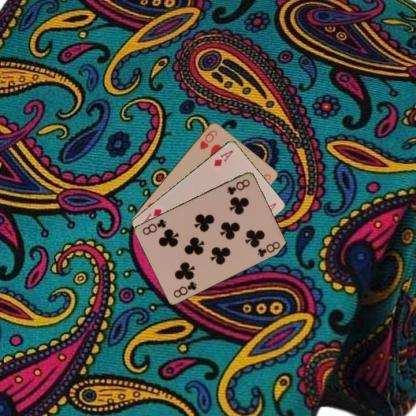6h: (197, 127, 218, 151)
8c: (224, 176, 252, 196), (171, 278, 198, 298)
Ad: (211, 146, 234, 168)
